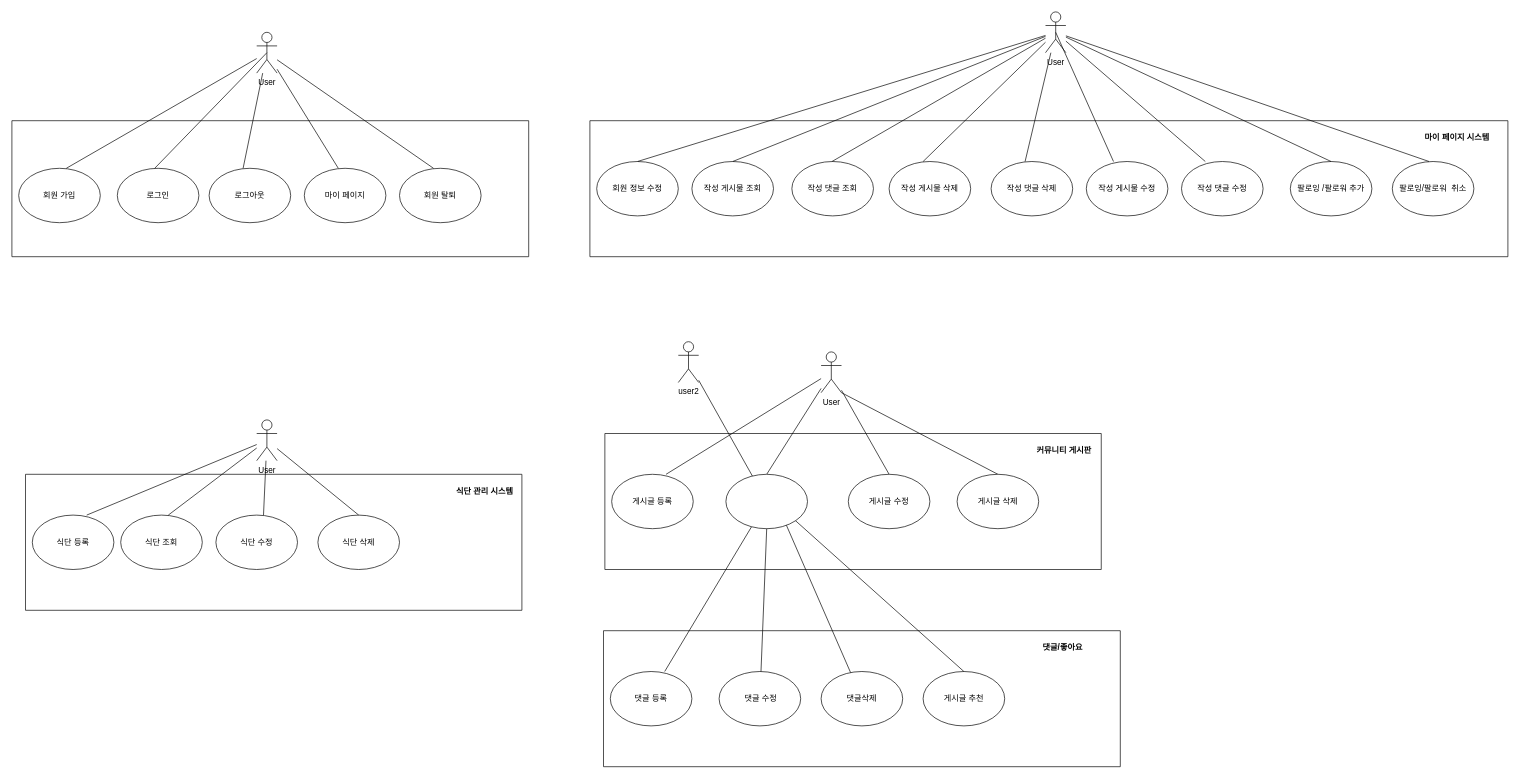
This 1520x779 diagram has some shape labels left out. Each missing label, with the centre of its shape:
게시글 조회: [766,501]
회원 관리 시스템: [270,188]
